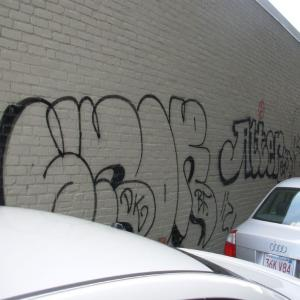Vehicle-registration-plate: (264, 253, 298, 278)
